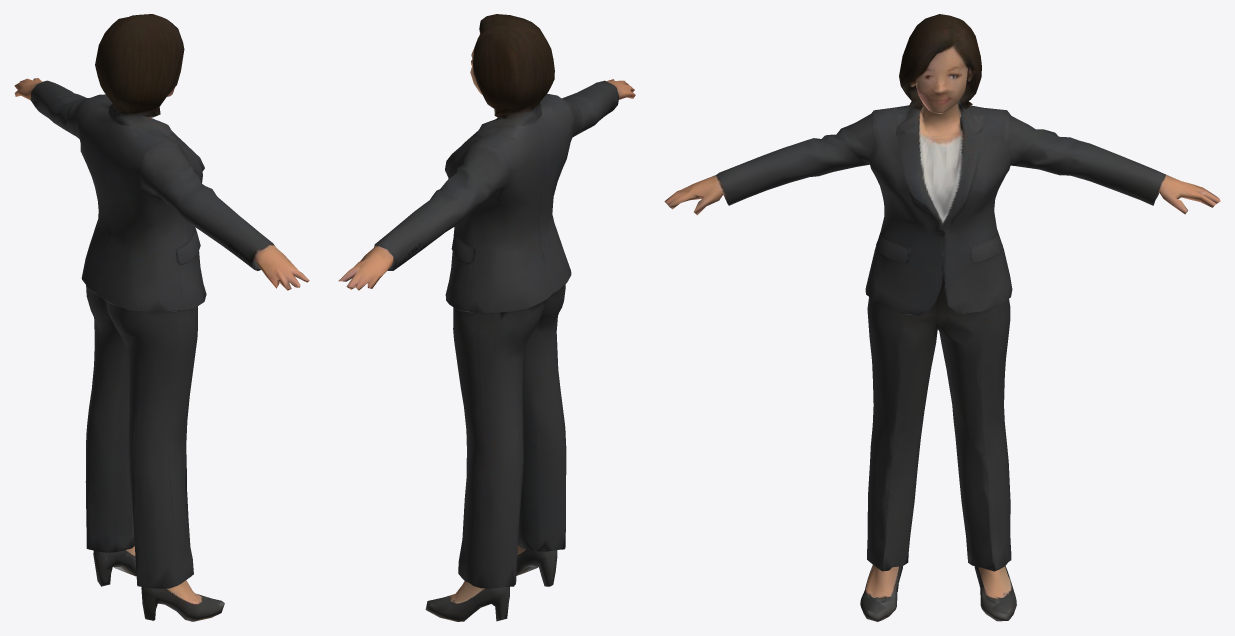
File: human3.glb
3 views of the same model, side by side, from view 1: azimuth 30°, elevation 25°; view 2: azimuth 150°, elevation 25°; view 3: azimuth 270°, elevation 25° (orthographic).
Parts seen in each view (by area): view 1: tripo_node_f0f114d9-811e-4c4c-8a64-f36f00a8bccf; view 2: tripo_node_f0f114d9-811e-4c4c-8a64-f36f00a8bccf; view 3: tripo_node_f0f114d9-811e-4c4c-8a64-f36f00a8bccf.
Part boxes in pixels (left/top/right/bottom): tripo_node_f0f114d9-811e-4c4c-8a64-f36f00a8bccf: left=14, top=14, right=309, bottom=621; tripo_node_f0f114d9-811e-4c4c-8a64-f36f00a8bccf: left=338, top=14, right=635, bottom=621; tripo_node_f0f114d9-811e-4c4c-8a64-f36f00a8bccf: left=664, top=14, right=1220, bottom=621.
Bounding box in the file's own units: 0.1776 × 1 × 0.8698.
1 material, 1 textured.
